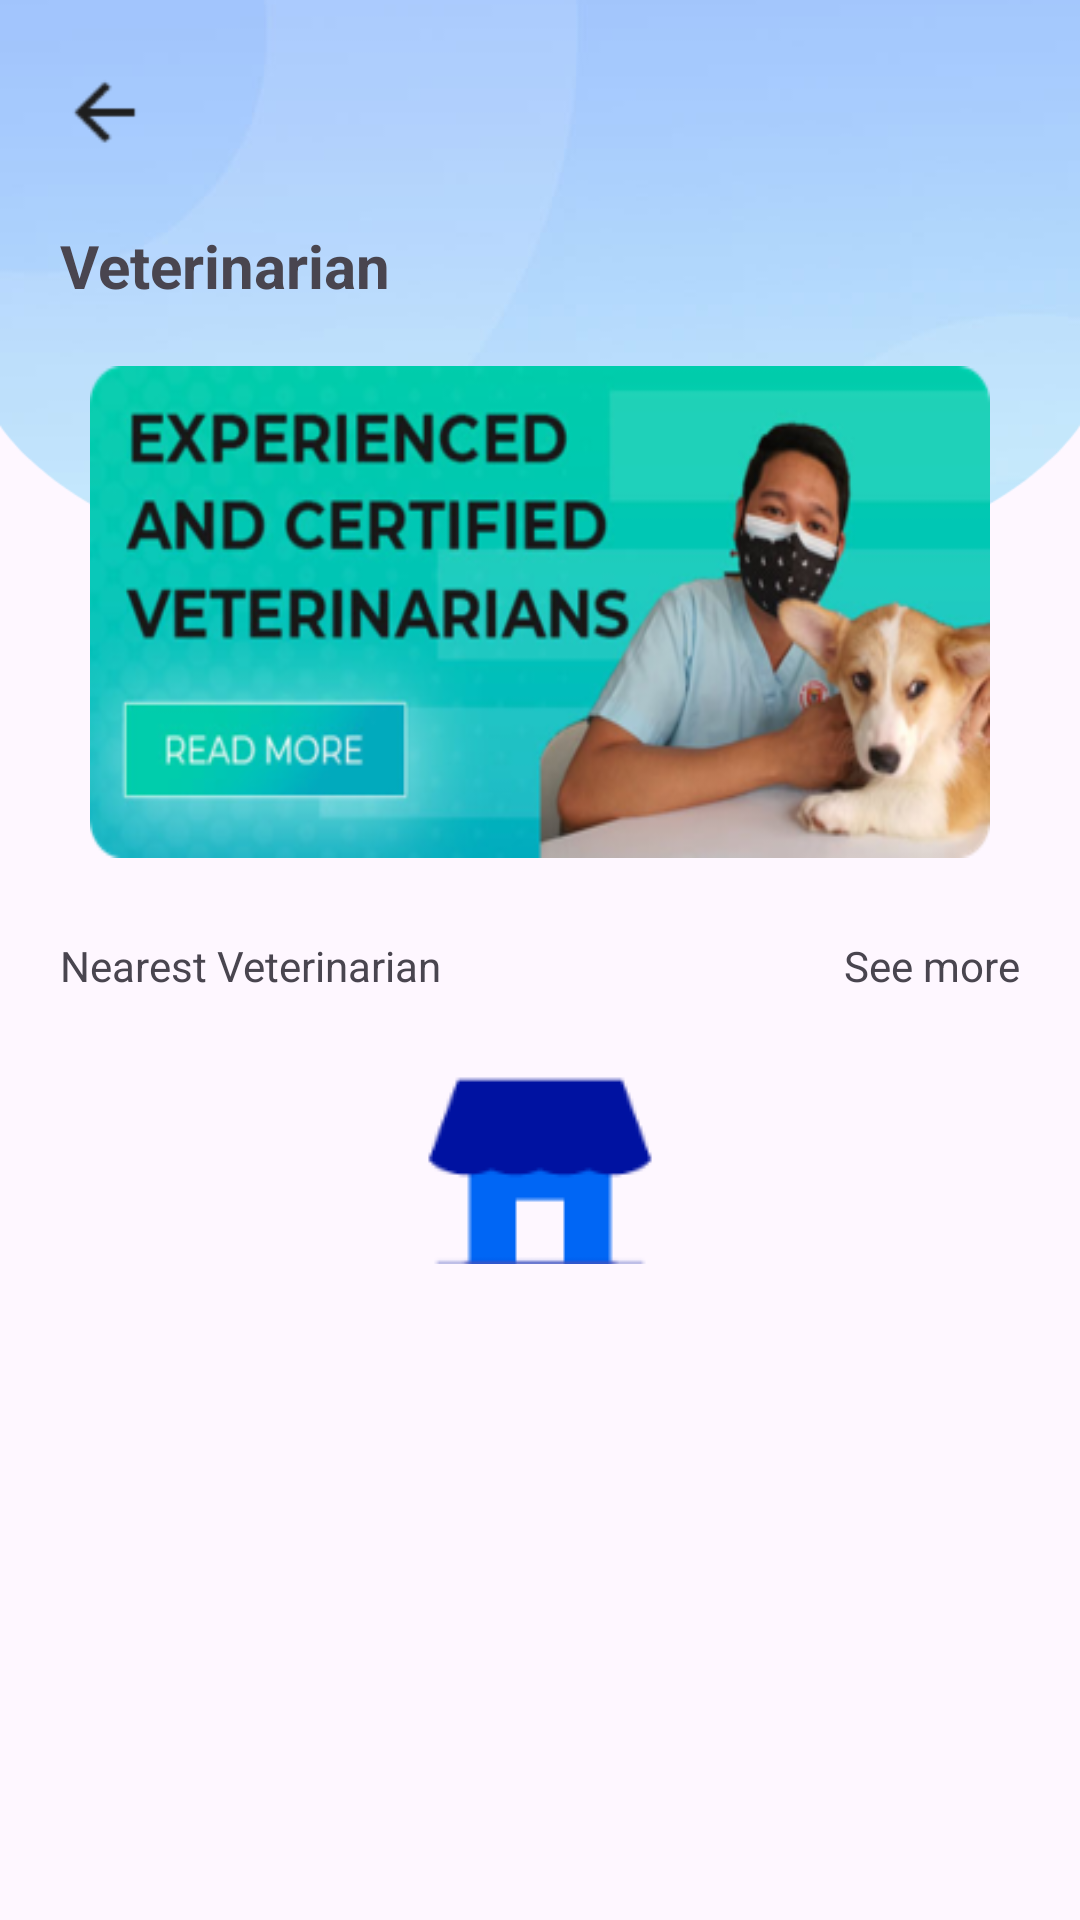

Icon bounding boxes for this 1080 × 1920 phone screenshot, format {"x1": x1, "y1": y1, "x2": x2, "y2": y2}:
back: {"x1": 74, "y1": 82, "x2": 136, "y2": 143}
